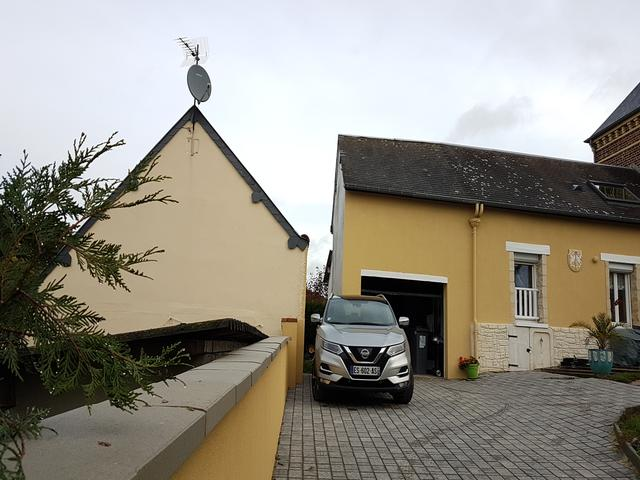Quashquai: (347, 360, 385, 380)
